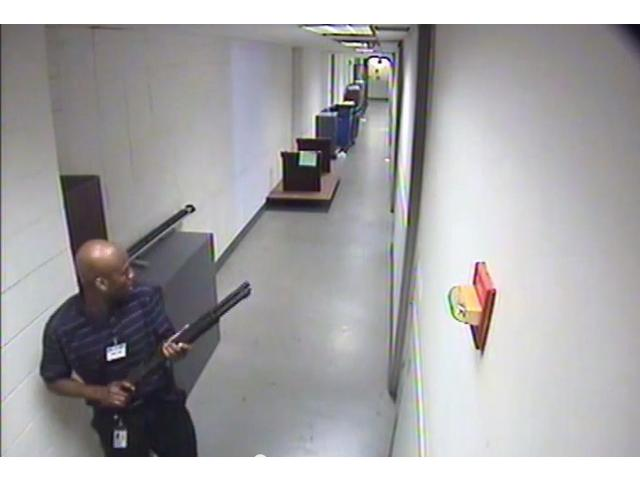rifle: (99, 279, 258, 412)
